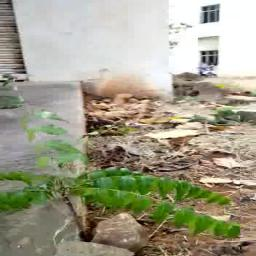Azadiractha Indica: (0, 74, 241, 256)
